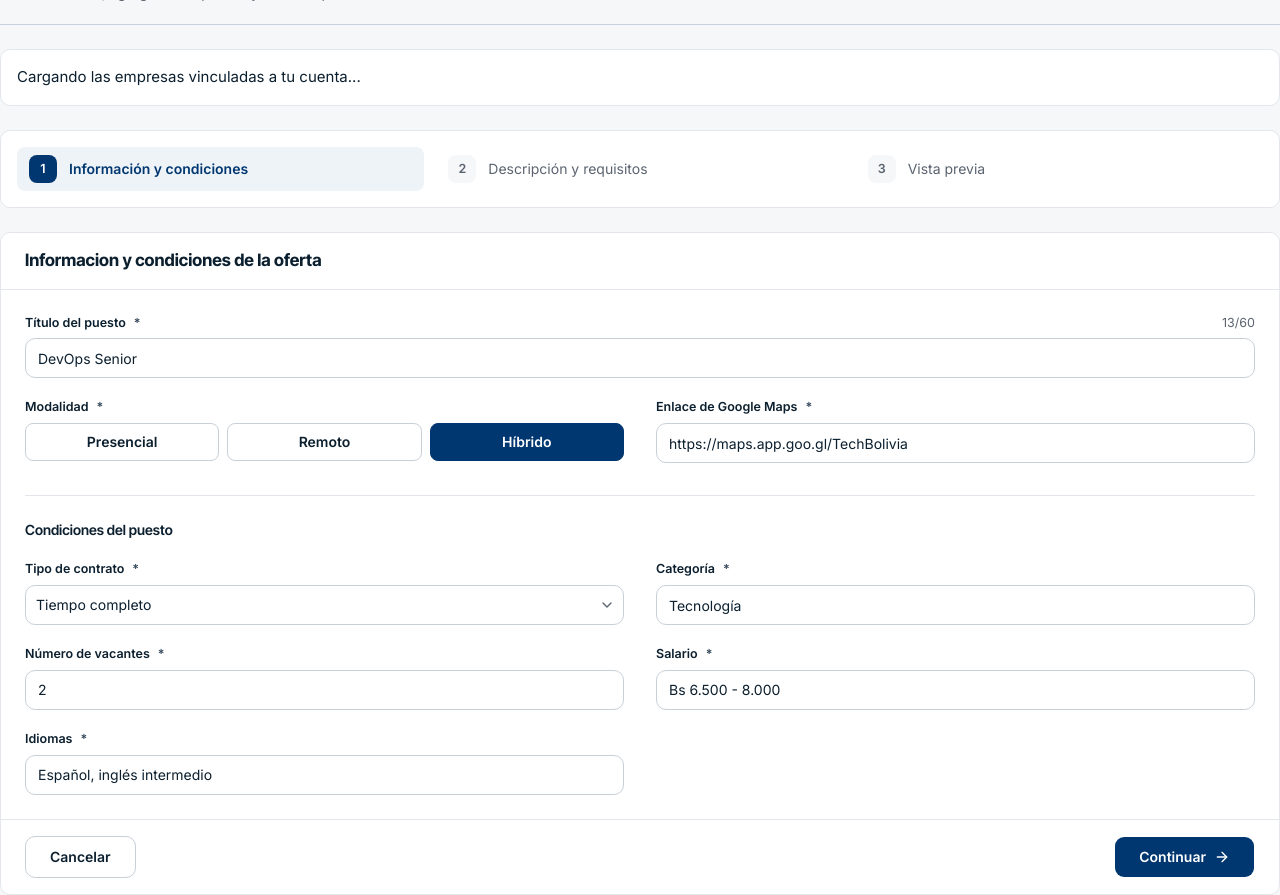
Test: RegisterVacancyView › Cancelar con cambios pide confirmación y descarta al confirmar
The image size is (1280, 895).
(page scrolled)
Click the button "Cancelar": (80, 857) [25,836,136,878]
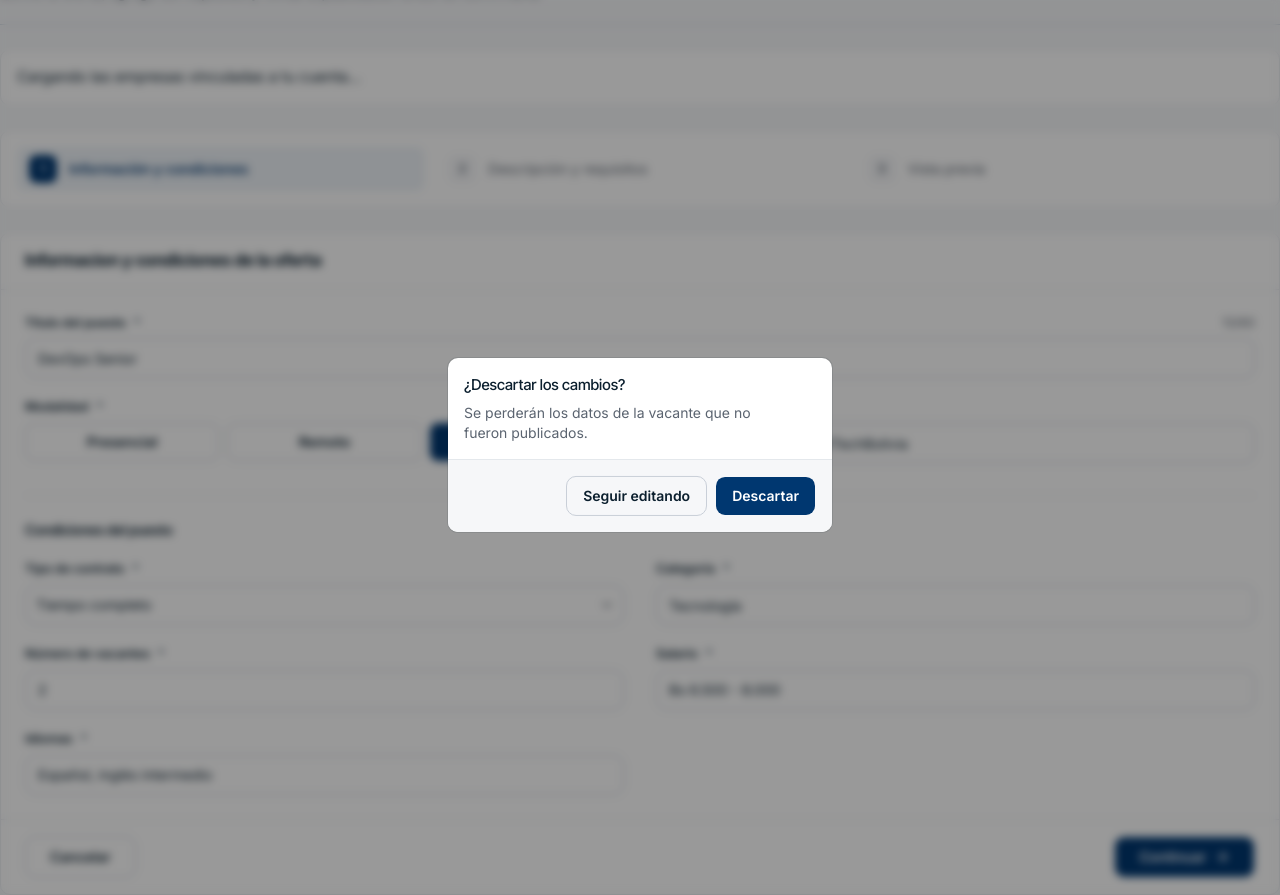
Now the heading "¿Descartar los cambios?" is shown, box [464,374,625,396]
Click the button "Descartar": (766, 496) [715,476,816,516]
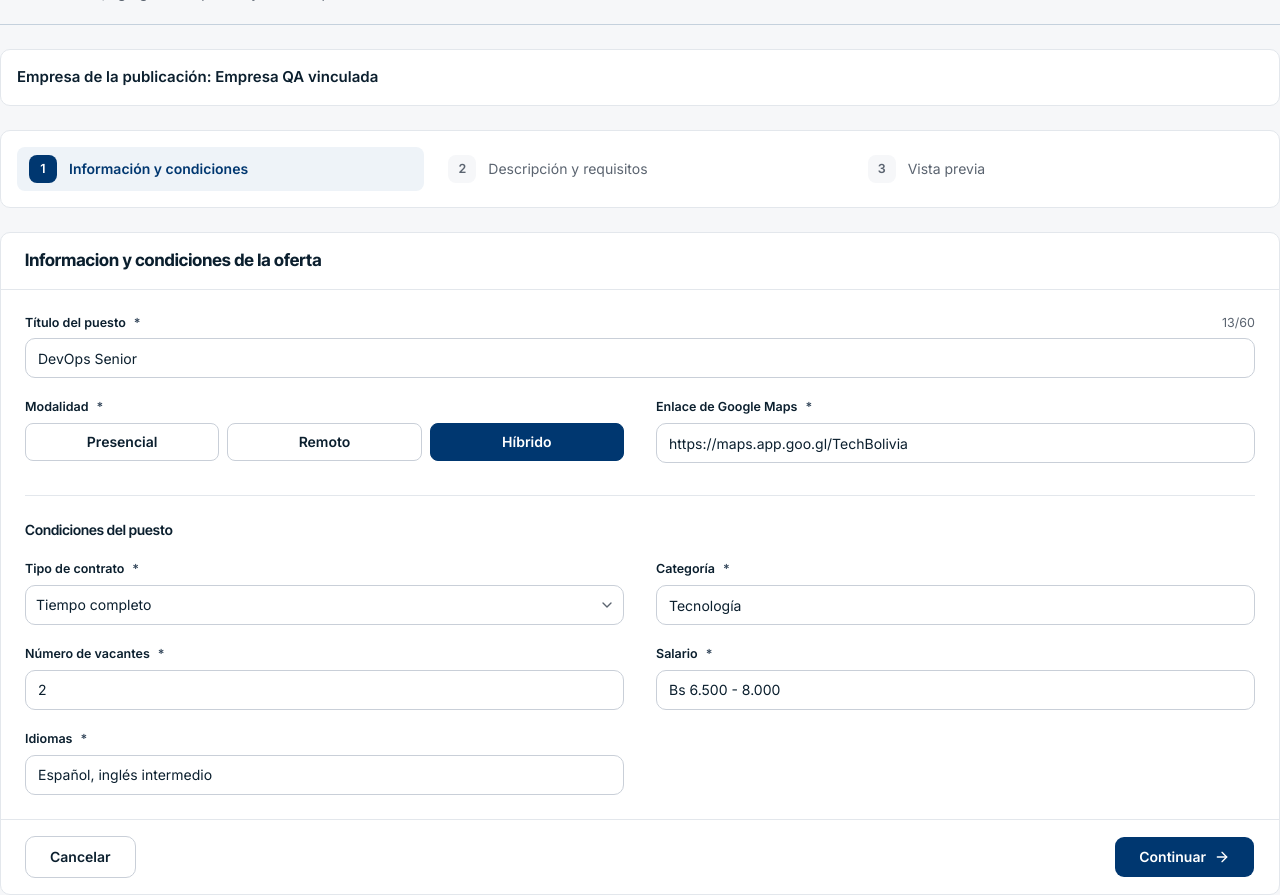
Now the heading "¿Descartar los cambios?" is gone
